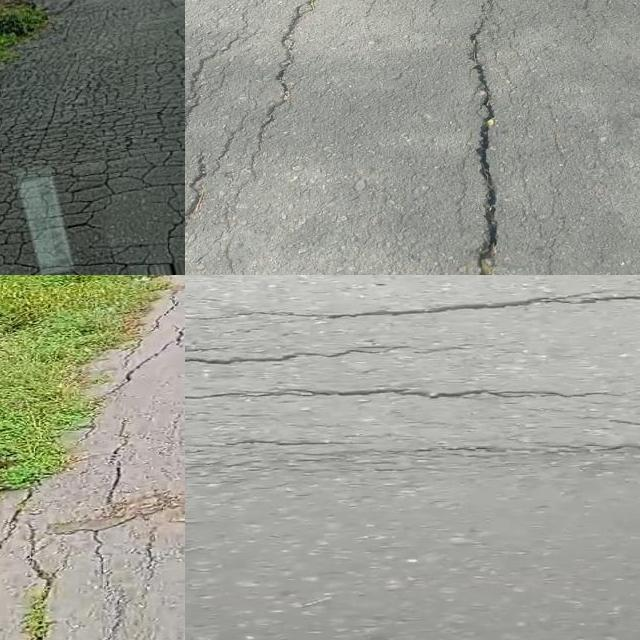Melintang: (185, 382, 630, 418), (237, 284, 640, 320)
Memanjang: (225, 0, 332, 251), (453, 0, 518, 275)
Pinggir: (0, 275, 185, 609)
Retak Buaya: (0, 0, 185, 275)
